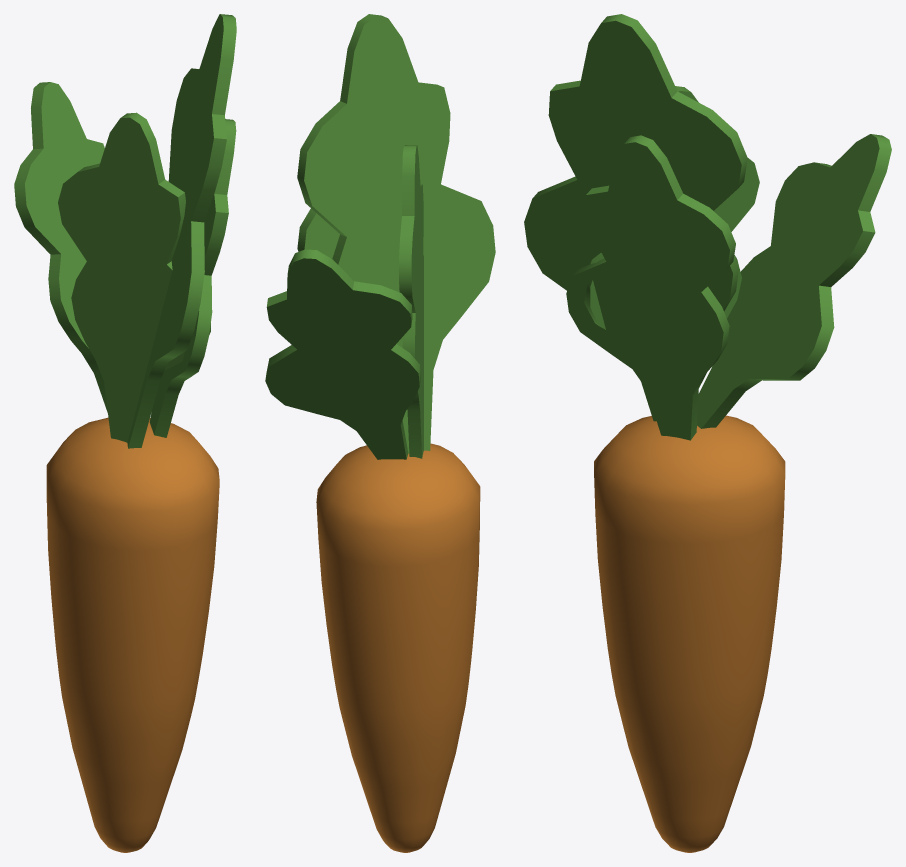
File: mesh_carotte.fbx
3 renders of one model, left to right at view 1: azimuth 30°, elevation 25°; view 2: azimuth 150°, elevation 25°; view 3: azimuth 270°, elevation 25°, orthographic. The views are drawn at different scales.
Parts seen in each view (by area): view 1: Carrote; view 2: Carrote; view 3: Carrote.
Boxes of the visible parts, box(x1,y1,x2,y2) form: Carrote: box(14, 14, 236, 852); Carrote: box(265, 14, 495, 852); Carrote: box(524, 14, 891, 852).
Size of the model in its own units: 8.84 by 43.74 by 16.8.
